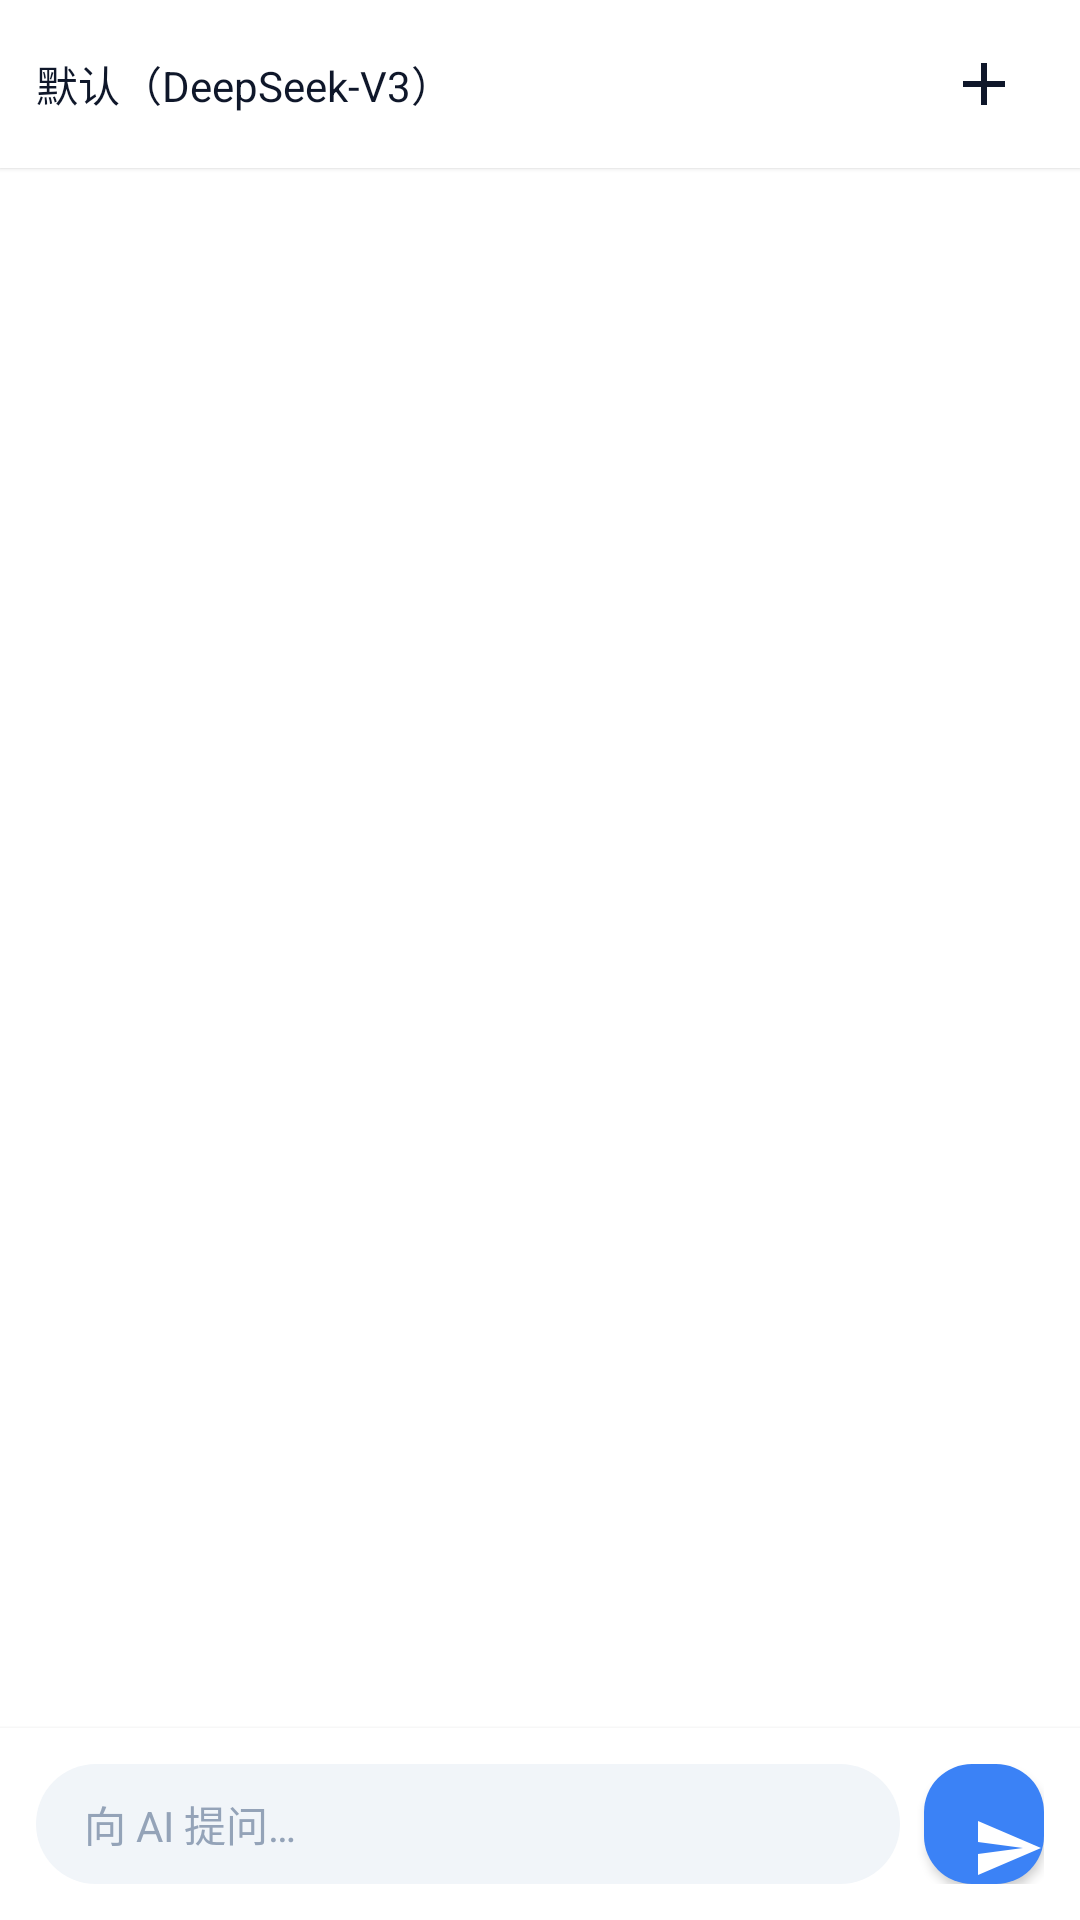

Icon click points for this 1080 × 1920 phone screenshot, format point (x, y):
plus: point (984, 84)
send: point (984, 1824)
